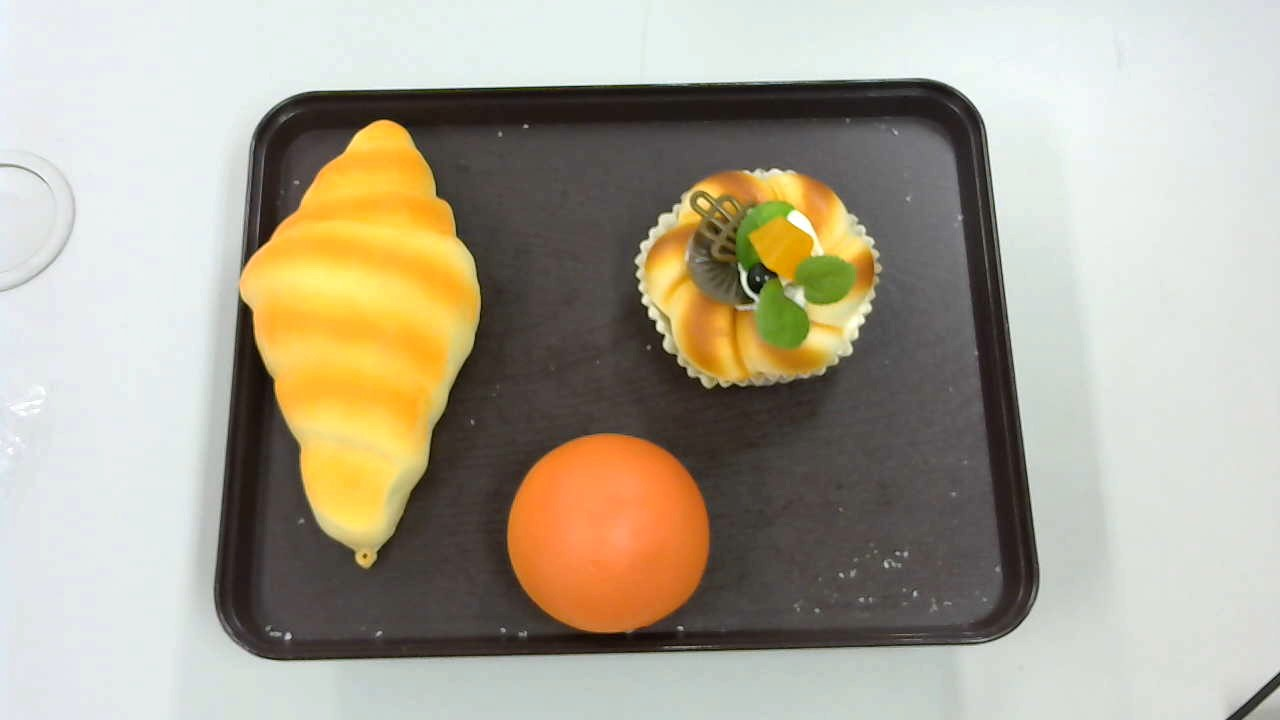bun: (507, 433, 711, 633)
croissant: (238, 120, 482, 569)
fruit tart: (637, 168, 882, 387)
